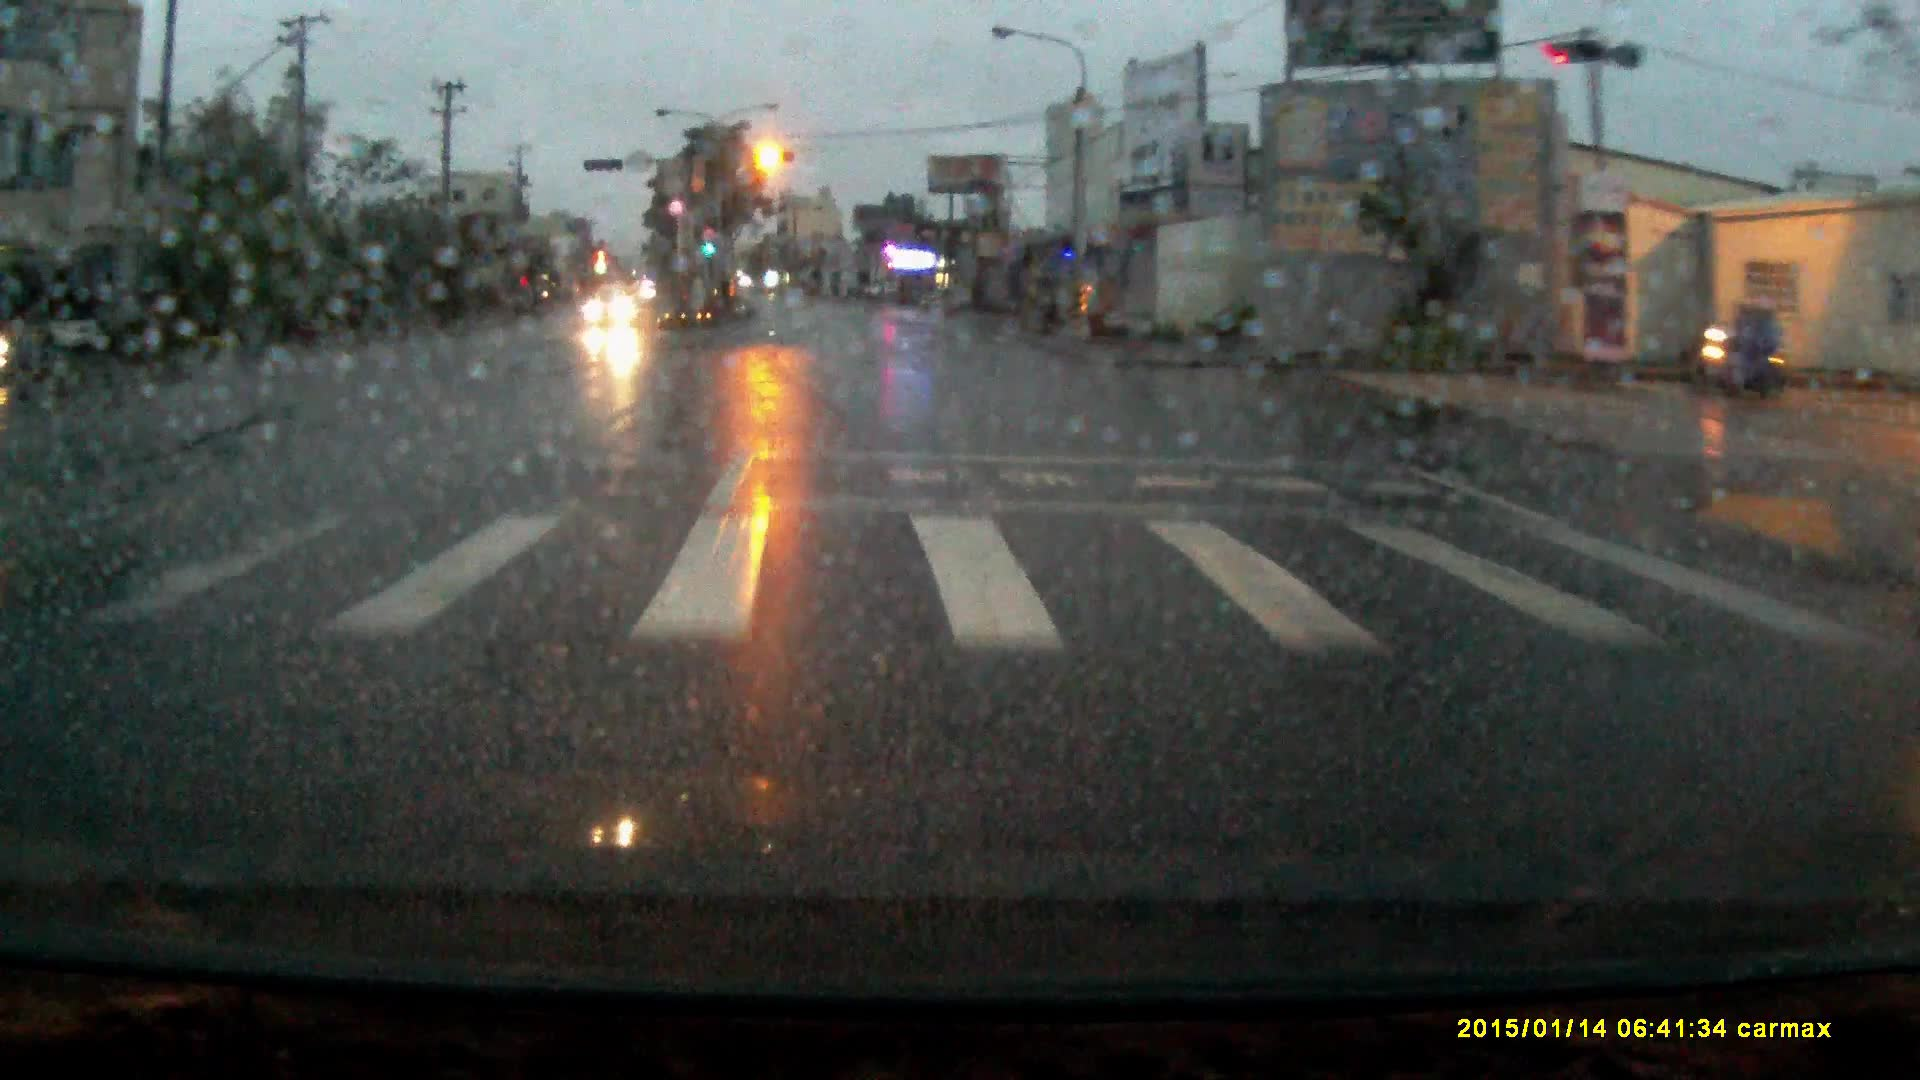rider: (1696, 294, 1785, 406), (1, 298, 25, 387)
vehicle: (584, 292, 645, 335)
